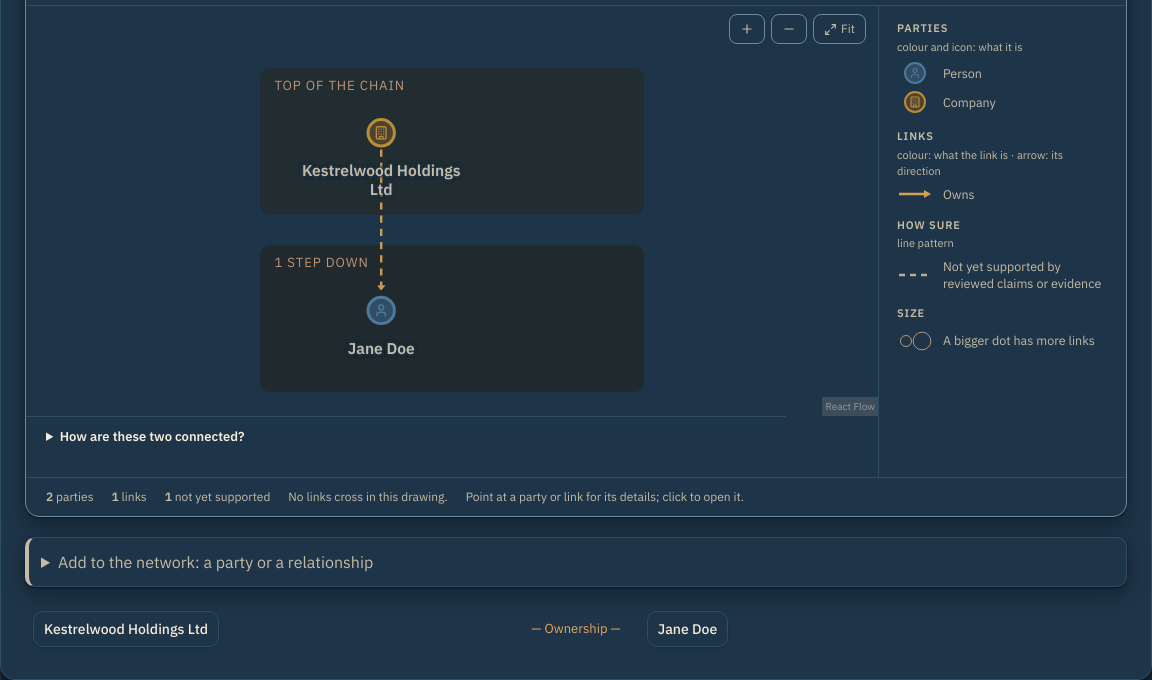
Test: RelationshipGraphPanel › requires a rationale before an evidence assessment, then records it and reads the history again
(page scrolled)
Step 1. Click the text "Ownership" → point(538, 629), box left=531, top=620, right=621, bottom=638
(page scrolled)
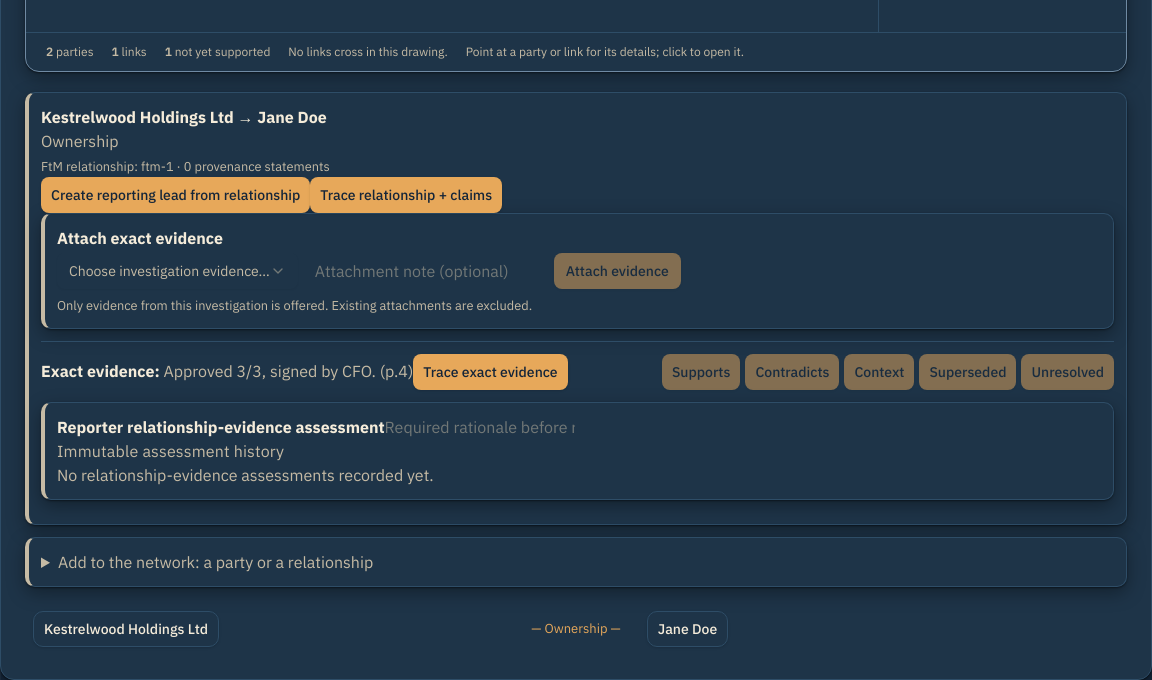
Expected: the text "Approved 3/3, signed by CFO." is shown, left=164, top=361, right=376, bottom=381
Expected: the text "No relationship-evidence assessments recorded yet." is shown, left=57, top=465, right=434, bottom=485
Expected: the button "Supports" is disabled, left=662, top=354, right=740, bottom=390
Step 2. Type "Board minutes directly confirm the ownership stake." into the field with placeholder "Required rationale before recording an evidence assessment" → point(480, 427), box left=385, top=415, right=575, bottom=439
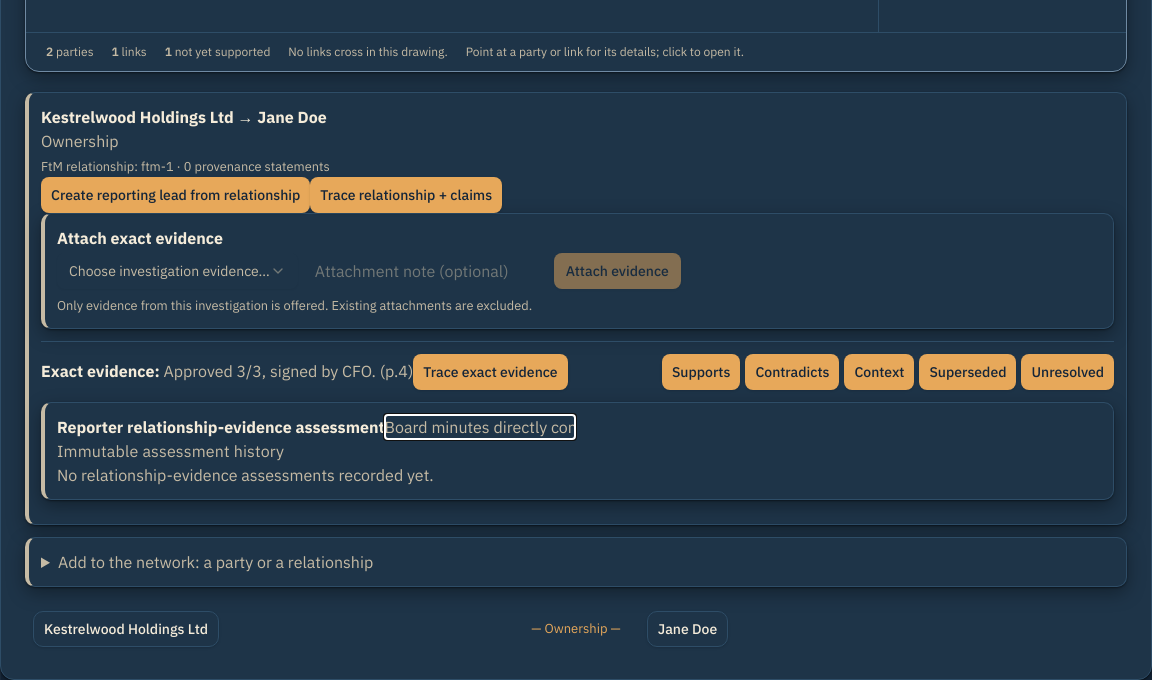
Expected: the button "Supports" is enabled
Step 3. Click the button "Supports" → point(701, 372), box left=662, top=354, right=740, bottom=390
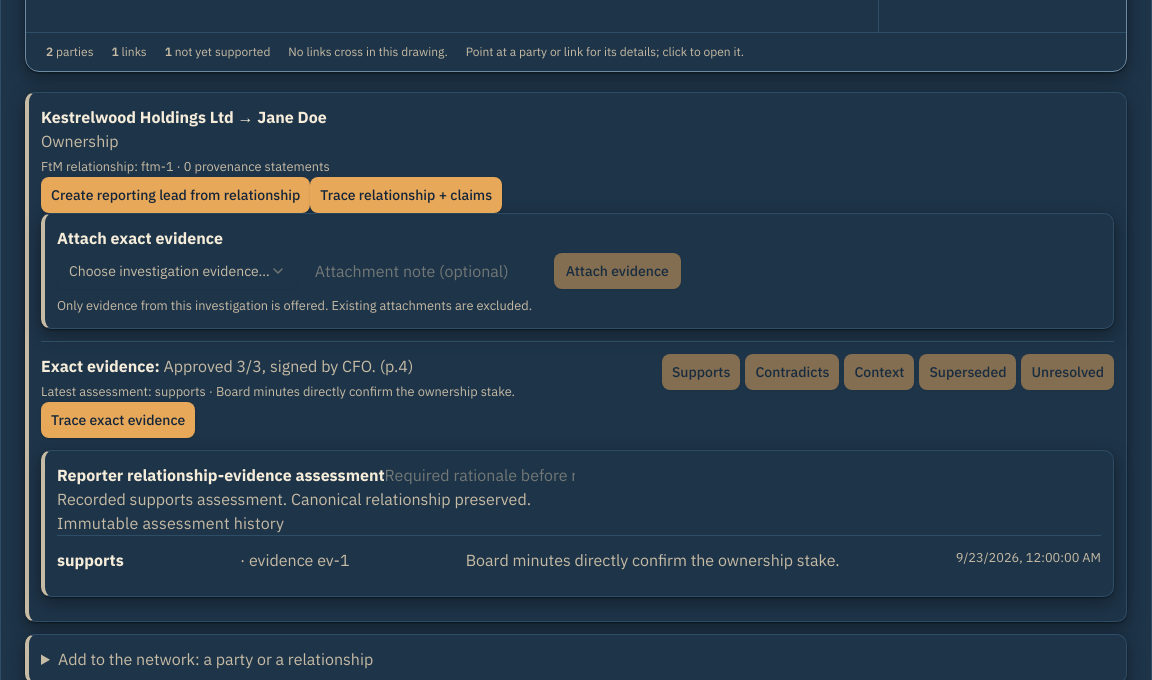
Expected: the text "Recorded supports assessment. Canonical relationship preserved." is shown, left=57, top=489, right=531, bottom=509
Expected: the text "Latest assessment: supports · Board minutes directly confirm the ownership stake." is shown, left=41, top=383, right=515, bottom=400
Expected: the text "Board minutes directly confirm the ownership stake." is shown, left=466, top=548, right=840, bottom=572
